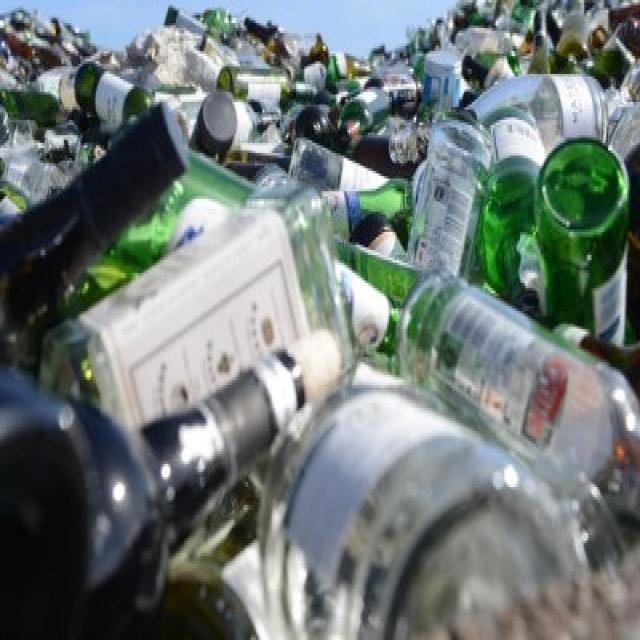electronic: (398, 108, 630, 358), (0, 98, 192, 342)
